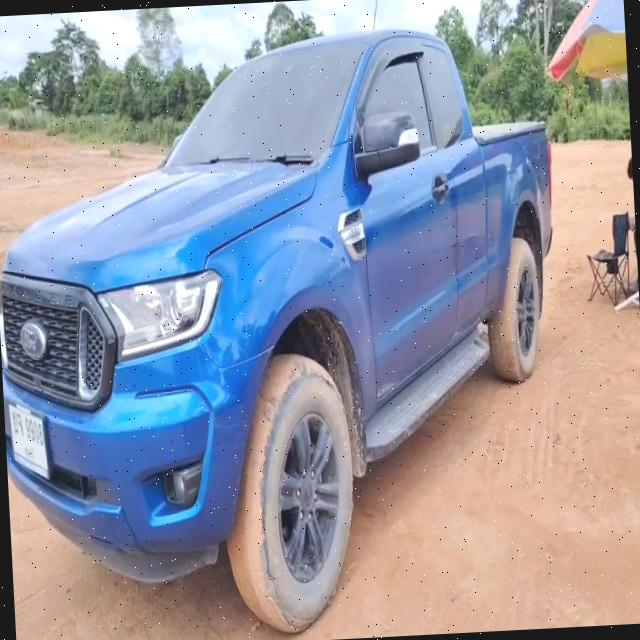Digit: (24, 415, 44, 447)
Licenseplate: (8, 403, 51, 483)
Provincename: (23, 443, 35, 463)
Thaichar: (12, 410, 24, 437)
